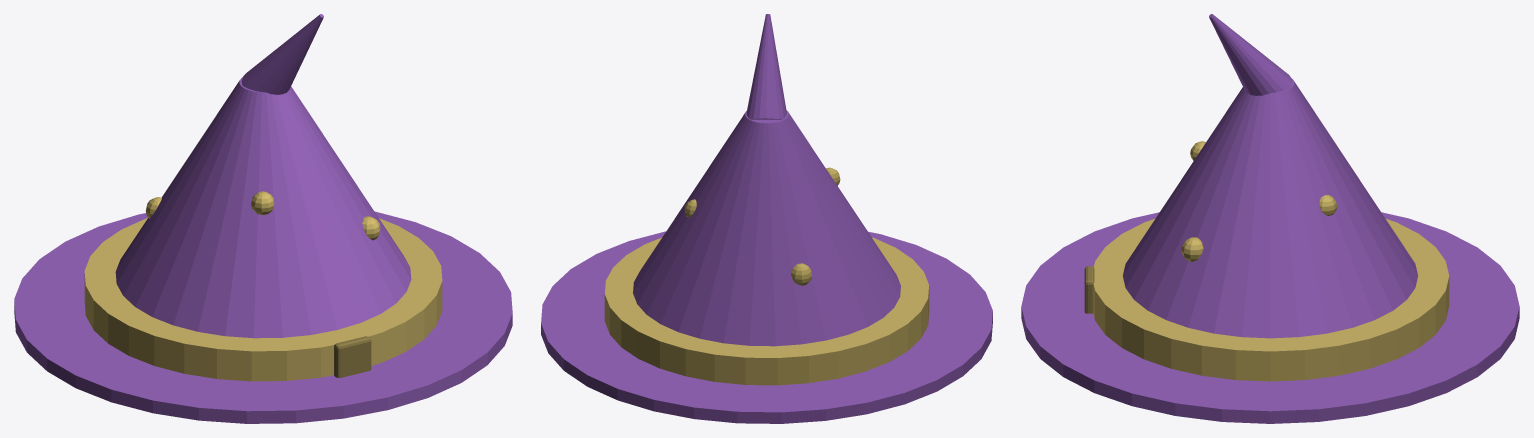
File: 02-chapeau-sorcier.glb
3 renders of one model, left to right at view 1: azimuth 30°, elevation 25°; view 2: azimuth 150°, elevation 25°; view 3: azimuth 270°, elevation 25°, orthographic. The views are drawn at different scales.
Parts seen in each view (by area): view 1: sorcier-corps, sorcier-bord, sorcier-bande, sorcier-pointe, sorcier-boucle.001; view 2: sorcier-corps, sorcier-bord, sorcier-bande, sorcier-pointe; view 3: sorcier-corps, sorcier-bord, sorcier-bande, sorcier-pointe, sorcier-boucle.001.
Boxes of the visible parts, left/top/right/bottom form: sorcier-corps: left=115, top=77, right=411, bottom=338; sorcier-bord: left=14, top=211, right=512, bottom=423; sorcier-bande: left=84, top=218, right=442, bottom=381; sorcier-pointe: left=241, top=14, right=323, bottom=94; sorcier-boucle.001: left=334, top=336, right=371, bottom=377; sorcier-corps: left=633, top=110, right=900, bottom=346; sorcier-bord: left=541, top=231, right=992, bottom=423; sorcier-bande: left=604, top=237, right=929, bottom=385; sorcier-pointe: left=746, top=14, right=786, bottom=119; sorcier-corps: left=1123, top=78, right=1417, bottom=338; sorcier-bord: left=1021, top=212, right=1519, bottom=423; sorcier-bande: left=1093, top=219, right=1449, bottom=381; sorcier-pointe: left=1209, top=14, right=1292, bottom=95; sorcier-boucle.001: left=1084, top=266, right=1094, bottom=313.
Size of the model in its own units: 1.24 by 0.8735 by 1.24.
